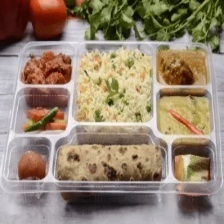rice: (77, 49, 157, 123)
